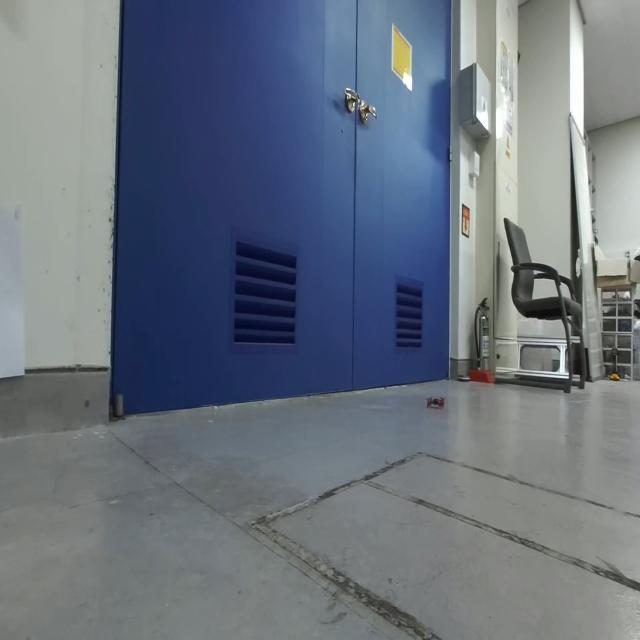crazyflie: (422, 389, 450, 415)
